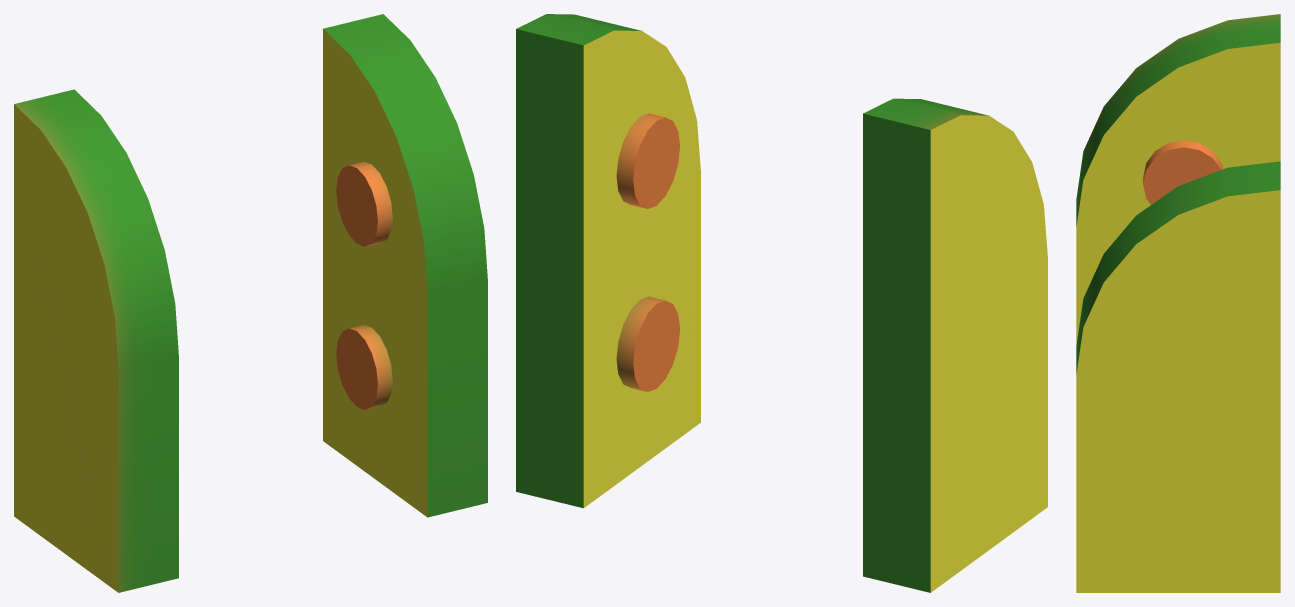
File: door_wait_open.fbx
3 views of the same model, side by side, from view 1: azimuth 30°, elevation 25°; view 2: azimuth 150°, elevation 25°; view 3: azimuth 270°, elevation 25° (orthographic). The views are drawn at different scales.
Visible parts, largest first — view 1: door_l, boor_r; view 2: door_l, boor_r; view 3: door_l, boor_r.
Part boxes in pixels (box(x1,y1,x2,y2)): door_l: box(323, 14, 487, 517); boor_r: box(14, 89, 178, 592); door_l: box(516, 14, 700, 508); boor_r: box(863, 98, 1047, 592); door_l: box(1076, 161, 1280, 592); boor_r: box(1076, 14, 1280, 345).
Bounding box in the file's own units: 184 × 196 × 90.
Materials: 2 (2 with a texture image).
